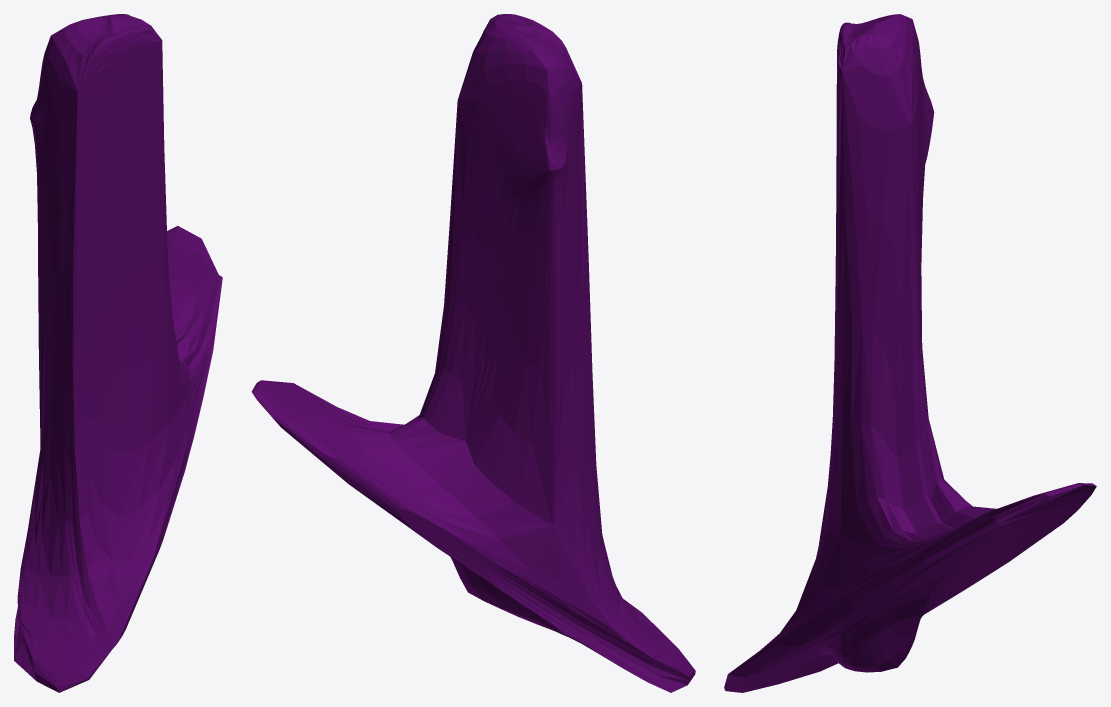
3 renders of one model, left to right at view 1: azimuth 30°, elevation 25°; view 2: azimuth 150°, elevation 25°; view 3: azimuth 270°, elevation 25°, orthographic. The views are drawn at different scales.
Visible parts, largest first — view 1: 430_Cube.1748; view 2: 430_Cube.1748; view 3: 430_Cube.1748.
Boxes of the visible parts, x1,y1,x2,y2 form: 430_Cube.1748: (14, 14, 222, 692); 430_Cube.1748: (251, 14, 695, 692); 430_Cube.1748: (724, 14, 1096, 692).
Bounding box in the file's own units: 6.78 × 13.88 × 6.41.
